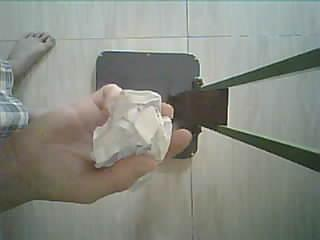paper: (92, 90, 172, 168)
